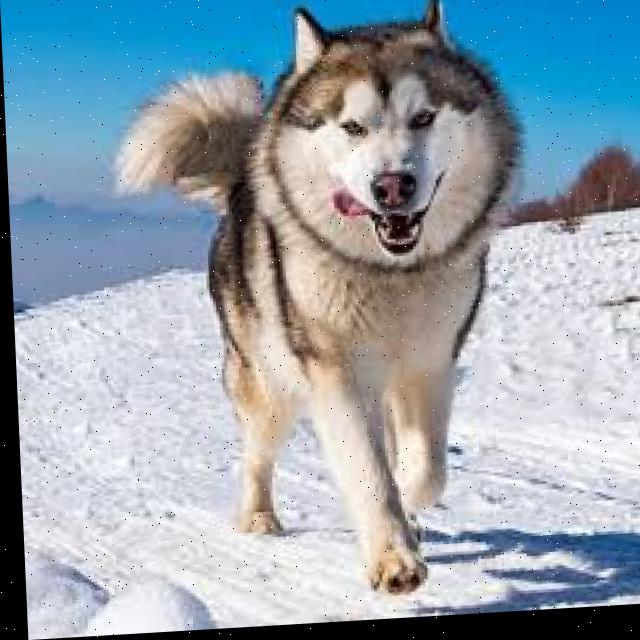ALASKAN_MALAMUTE: (102, 0, 545, 626)
